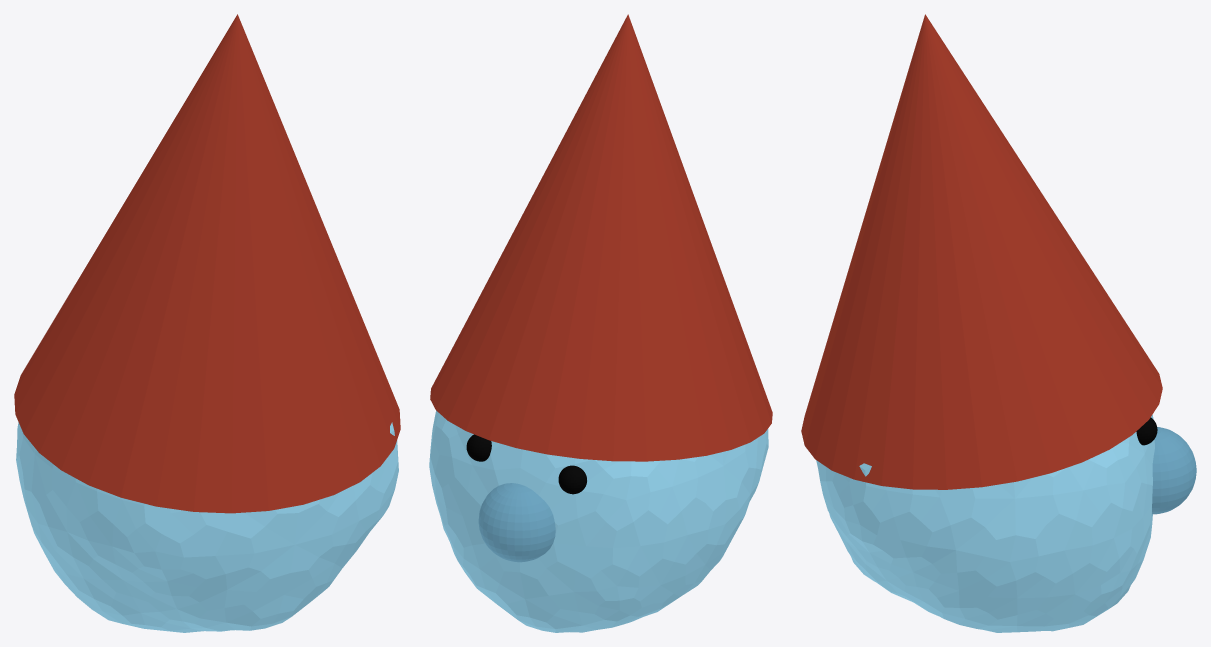
File: sorcerer.glb
The picture shows the model from 3 angles, left to right: view 1: azimuth 30°, elevation 25°; view 2: azimuth 150°, elevation 25°; view 3: azimuth 270°, elevation 25°; orthographic projection. The views are drawn at different scales.
Parts seen in each view (by area): view 1: Cone, Sphere.002; view 2: Cone, Sphere.002; view 3: Cone, Sphere.002.
Boxes of the visible parts, <box> form: Cone: <box>14,14,400,513</box>; Sphere.002: <box>16,422,398,632</box>; Cone: <box>430,14,772,461</box>; Sphere.002: <box>429,410,768,632</box>; Cone: <box>801,14,1162,489</box>; Sphere.002: <box>816,415,1196,632</box>.
Size of the model in its own units: 1.93 by 3.48 by 2.09.
